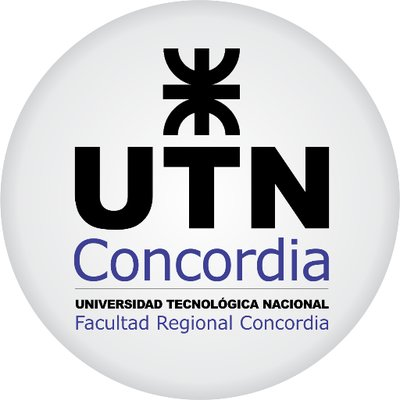utn: (163, 45, 243, 137)
